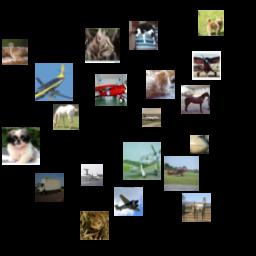airplane: (35, 63, 73, 101), (123, 142, 161, 180), (164, 156, 199, 191), (95, 74, 127, 106), (114, 187, 143, 216), (192, 51, 221, 80), (81, 164, 103, 186), (142, 108, 161, 127), (190, 135, 209, 154)
bird: (2, 39, 28, 65)
cat: (85, 28, 120, 63), (129, 21, 158, 50), (146, 70, 175, 99)
dog: (2, 127, 40, 165), (198, 10, 224, 36)
frog: (80, 211, 109, 240)
truck: (35, 173, 64, 202)
